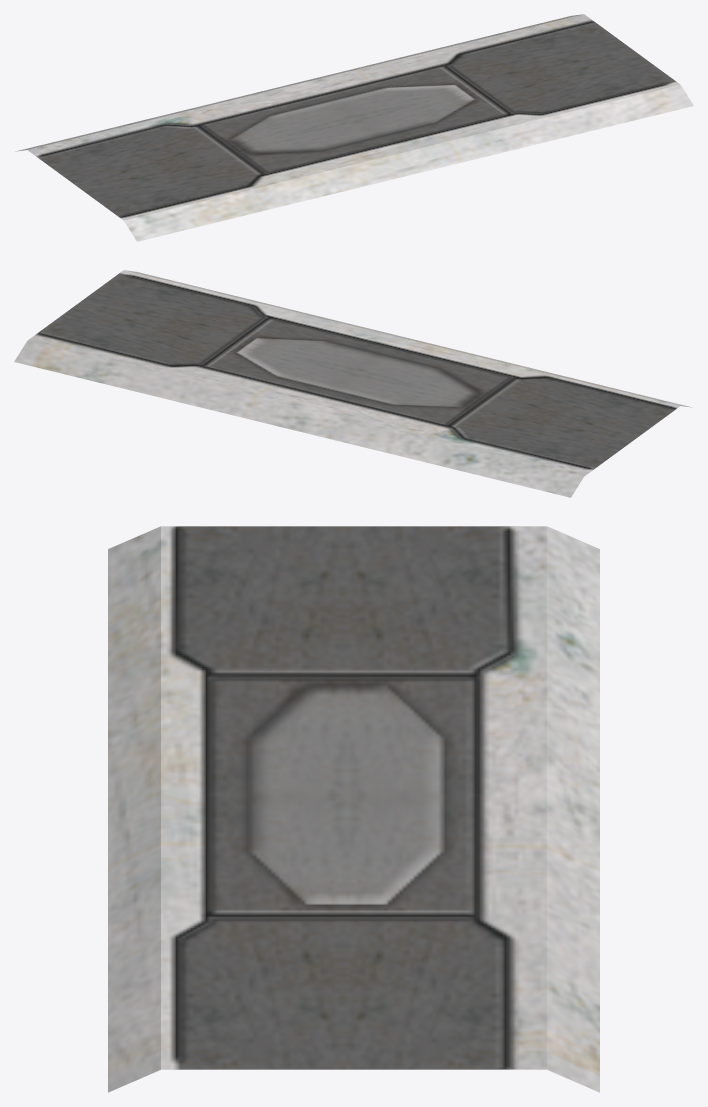
Rendered from doodad_groundedge.fbx.
3 renders of one model, top to bottom at view 1: azimuth 30°, elevation 25°; view 2: azimuth 150°, elevation 25°; view 3: azimuth 270°, elevation 25°, orthographic. The views are drawn at different scales.
Parts seen in each view (by area): view 1: pCube2; view 2: pCube2; view 3: pCube2.
Part boxes in pixels (x1,y1,x2,y2): pCube2: (15,14,693,241); pCube2: (14,270,692,497); pCube2: (108,526,599,1092).
Size of the model in its own units: 4 by 0.079 by 1.53.
Materials: 1 (1 with a texture image).
